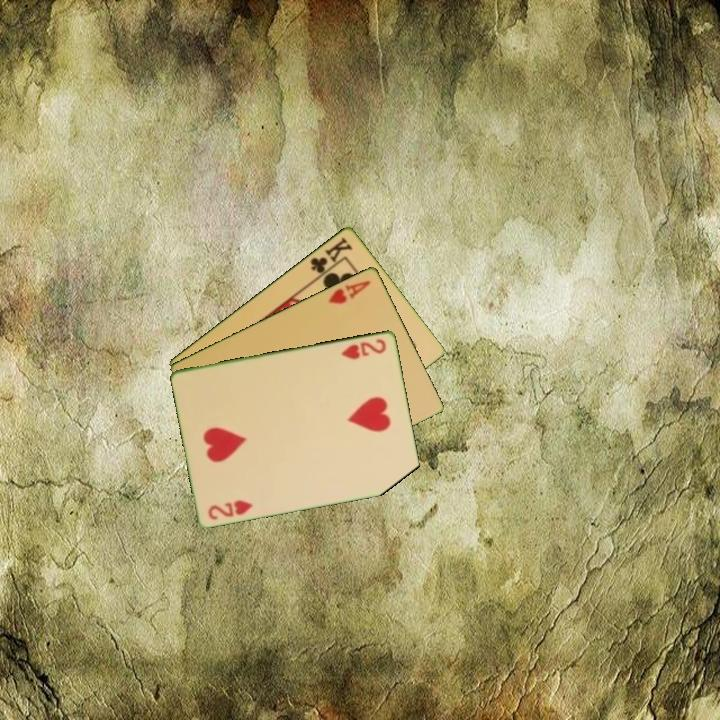2h: (338, 335, 389, 362), (205, 496, 255, 522)
Ah: (325, 276, 374, 307)
Kc: (307, 233, 356, 281)
